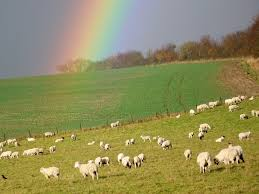sheep: (215, 147, 247, 168), (75, 162, 99, 179), (197, 153, 213, 175), (40, 168, 60, 181), (236, 130, 251, 143), (196, 102, 209, 114), (24, 147, 42, 155), (183, 148, 193, 159), (160, 139, 170, 150), (2, 150, 12, 160), (209, 100, 221, 108), (101, 156, 111, 165), (138, 135, 150, 142), (133, 157, 141, 167), (122, 157, 130, 167), (99, 142, 108, 150), (12, 150, 20, 159), (238, 113, 248, 120), (111, 121, 121, 128), (7, 139, 17, 146), (129, 136, 137, 144), (137, 155, 145, 163), (117, 154, 124, 163), (200, 123, 210, 129), (229, 105, 239, 111), (216, 136, 224, 143), (70, 132, 78, 139), (48, 145, 57, 151), (54, 137, 64, 142), (157, 137, 164, 144), (95, 158, 102, 165), (231, 97, 242, 101), (197, 132, 203, 139), (251, 110, 258, 116), (174, 113, 180, 120), (125, 140, 132, 146), (224, 99, 232, 104), (44, 132, 54, 136), (248, 96, 255, 101), (189, 108, 194, 115), (28, 137, 35, 142), (87, 142, 95, 146), (199, 126, 205, 131), (1, 140, 5, 147), (227, 141, 232, 146), (241, 94, 246, 99), (189, 132, 193, 138)
